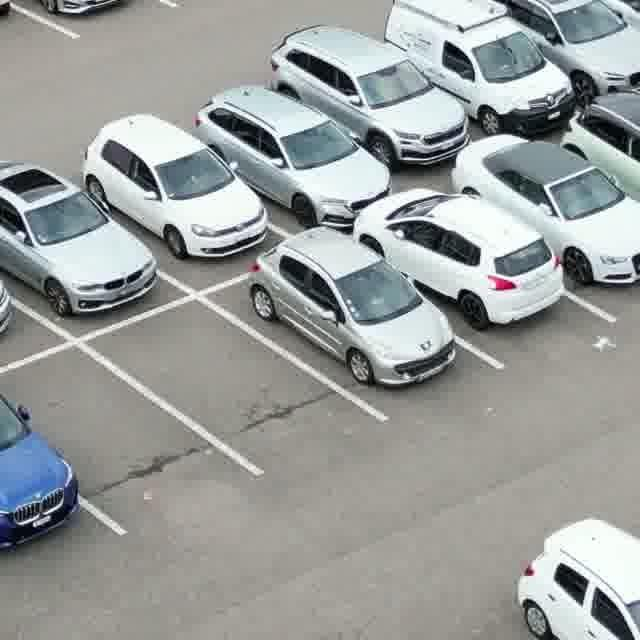Drohne: (593, 336, 616, 351)
